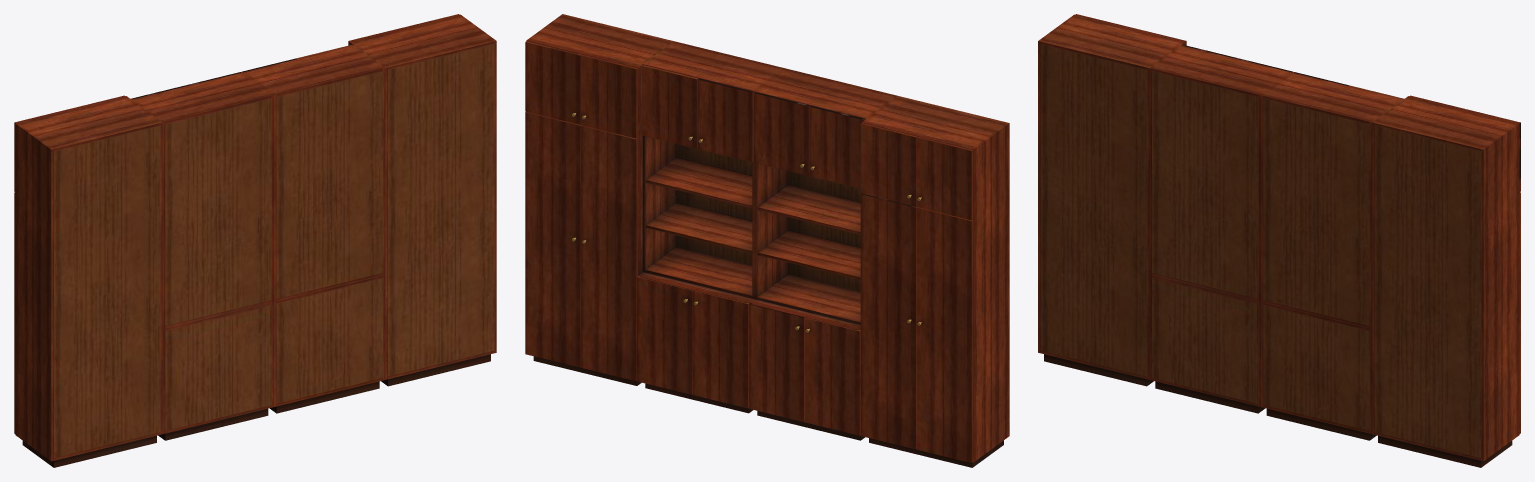
File: stenka_red_lod1_web.glb
The picture shows the model from 3 angles, left to right: view 1: azimuth 30°, elevation 25°; view 2: azimuth 150°, elevation 25°; view 3: azimuth 330°, elevation 25°; orthographic projection.
Parts seen in each view (by area): view 1: StenkaRed_Body; view 2: StenkaRed_Body, Door_4L0_L_Mesh, Door_4L0_R_Mesh, Door_1L0_R_Mesh, Door_1L0_L_Mesh, Door_2L0_R_Mesh, Door_3L0_L_Mesh, Door_3L0_R_Mesh, Door_2L0_L_Mesh, Door_2U1_R_Mesh, Door_4L1_L_Mesh, Door_1L1_R_Mesh (+5 smaller); view 3: StenkaRed_Body.
Boxes of the visible parts, left/top/right/bottom form: StenkaRed_Body: left=15, top=14, right=496, bottom=467; StenkaRed_Body: left=526, top=14, right=1009, bottom=467; Door_4L0_L_Mesh: left=860, top=193, right=916, bottom=449; Door_4L0_R_Mesh: left=916, top=207, right=972, bottom=462; Door_1L0_R_Mesh: left=581, top=125, right=637, bottom=380; Door_1L0_L_Mesh: left=525, top=111, right=581, bottom=367; Door_2L0_R_Mesh: left=692, top=290, right=749, bottom=408; Door_3L0_L_Mesh: left=748, top=303, right=804, bottom=421; Door_3L0_R_Mesh: left=804, top=317, right=860, bottom=435; Door_2L0_L_Mesh: left=637, top=276, right=692, bottom=394; Door_2U1_R_Mesh: left=697, top=78, right=754, bottom=162; Door_4L1_L_Mesh: left=860, top=123, right=917, bottom=206; Door_1L1_R_Mesh: left=581, top=54, right=637, bottom=138; StenkaRed_Body: left=1038, top=14, right=1519, bottom=467.
Bounding box in the file's own units: 3.2 × 2.2 × 0.4979.
Materials: 2 (2 with a texture image).
